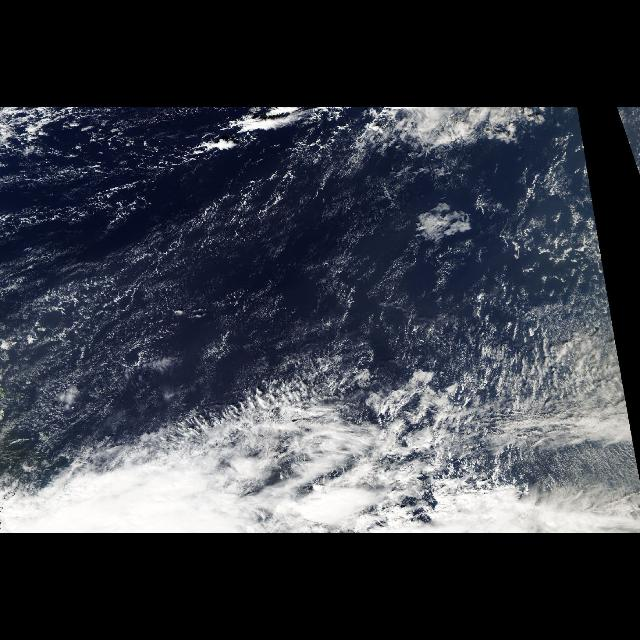Gravel: (6, 120, 576, 404)
Sugar: (0, 139, 616, 411)
